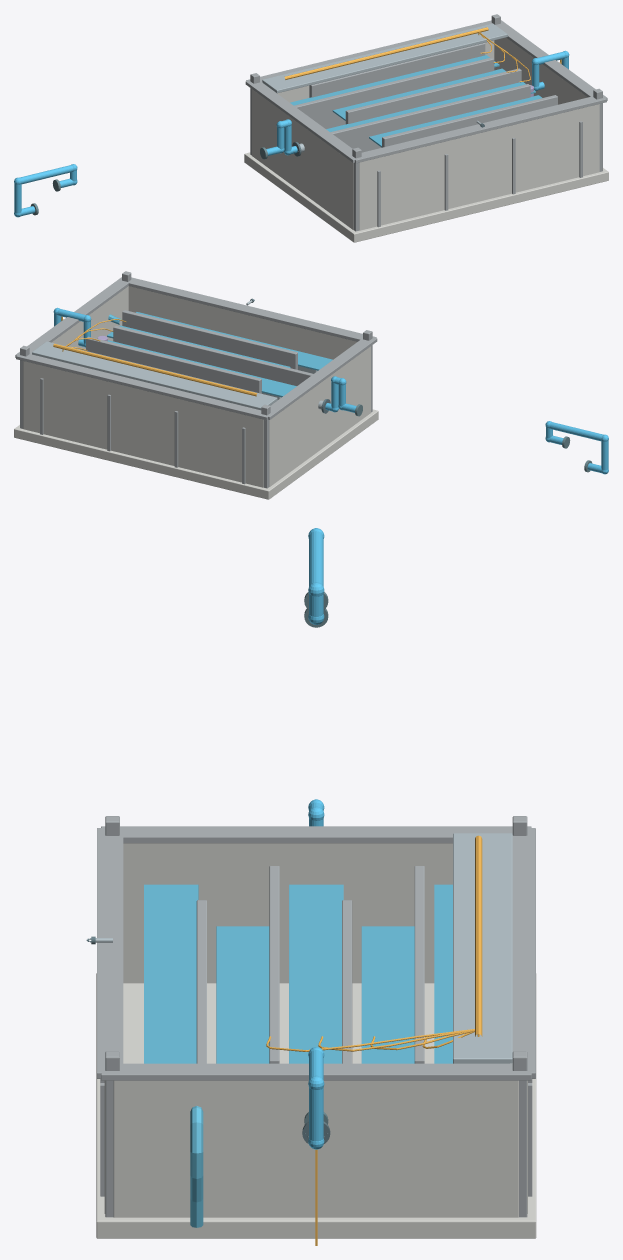
3 renders of one model, top to bottom at view 1: azimuth 30°, elevation 25°; view 2: azimuth 150°, elevation 25°; view 3: azimuth 270°, elevation 25°, orthographic. The views are drawn at different scales.
Visible parts, largest first — view 1: render-batch-7, render-batch-4, render-batch-5, render-batch-2, render-batch-0, render-batch-8; view 2: render-batch-7, render-batch-4, render-batch-5, render-batch-0, render-batch-2, render-batch-8; view 3: render-batch-7, render-batch-2, render-batch-4, render-batch-5, render-batch-0, render-batch-8.
Boxes of the visible parts, bbox=[...] form: render-batch-7: bbox=[244, 37, 608, 242]; render-batch-4: bbox=[245, 14, 607, 231]; render-batch-5: bbox=[262, 23, 507, 152]; render-batch-2: bbox=[290, 55, 541, 147]; render-batch-0: bbox=[14, 50, 569, 217]; render-batch-8: bbox=[284, 27, 561, 82]; render-batch-7: bbox=[14, 286, 378, 499]; render-batch-4: bbox=[15, 271, 377, 488]; render-batch-5: bbox=[32, 300, 323, 410]; render-batch-0: bbox=[53, 307, 608, 474]; render-batch-2: bbox=[107, 312, 332, 397]; render-batch-8: bbox=[53, 316, 257, 396]; render-batch-7: bbox=[96, 843, 536, 1238]; render-batch-2: bbox=[144, 884, 452, 1227]; render-batch-4: bbox=[97, 816, 535, 1217]; render-batch-5: bbox=[95, 833, 512, 1063]; render-batch-0: bbox=[308, 528, 324, 1149]; render-batch-8: bbox=[266, 835, 482, 1245].
Size of the model in its own units: 29.98 by 4.83 by 10.53.
